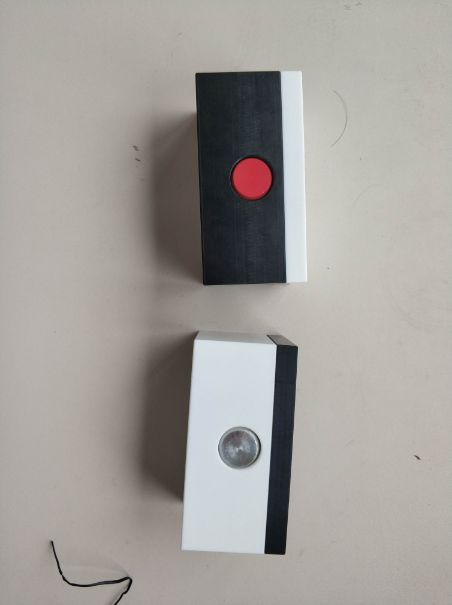black+white+silver: (179, 327, 300, 561)
white+black+red: (191, 68, 313, 286)
